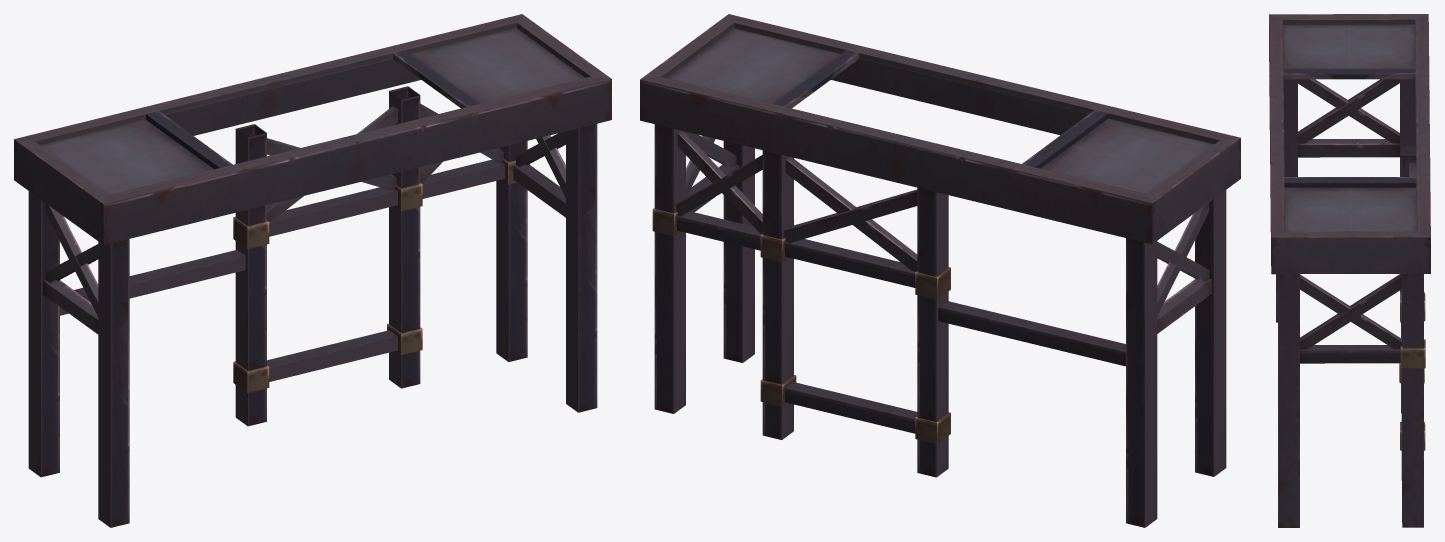
Rendered from dkjy_1_05.fbx.
3 renders of one model, left to right at view 1: azimuth 30°, elevation 25°; view 2: azimuth 150°, elevation 25°; view 3: azimuth 270°, elevation 25°, orthographic. The views are drawn at different scales.
Visible parts, largest first — view 1: dkjy_1_05; view 2: dkjy_1_05; view 3: dkjy_1_05.
Part boxes in pixels (bbox=[...]): dkjy_1_05: bbox=[14, 14, 611, 527]; dkjy_1_05: bbox=[640, 14, 1240, 527]; dkjy_1_05: bbox=[1269, 14, 1430, 527].
Size of the model in its own units: 1021 by 629 by 313.
